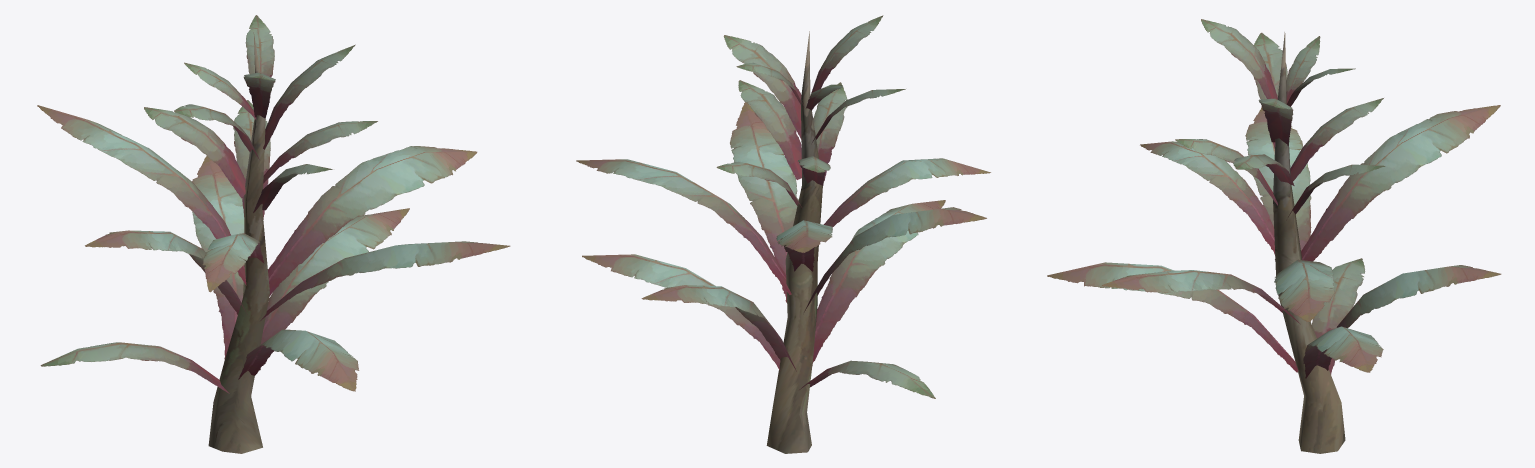
Rendered from SM_Com_Tre_07CS.fbx.
3 views of the same model, side by side, from view 1: azimuth 30°, elevation 25°; view 2: azimuth 150°, elevation 25°; view 3: azimuth 270°, elevation 25° (orthographic). The views are drawn at different scales.
Parts seen in each view (by area): view 1: SM_Com_Tre_07CS.mo; view 2: SM_Com_Tre_07CS.mo; view 3: SM_Com_Tre_07CS.mo.
Part boxes in pixels (x1=…): SM_Com_Tre_07CS.mo: x1=37, y1=15, x2=510, y2=453; SM_Com_Tre_07CS.mo: x1=576, y1=15, x2=990, y2=453; SM_Com_Tre_07CS.mo: x1=1047, y1=19, x2=1501, y2=453.
Bounding box in the file's own units: 1.93 × 1.83 × 1.94.
